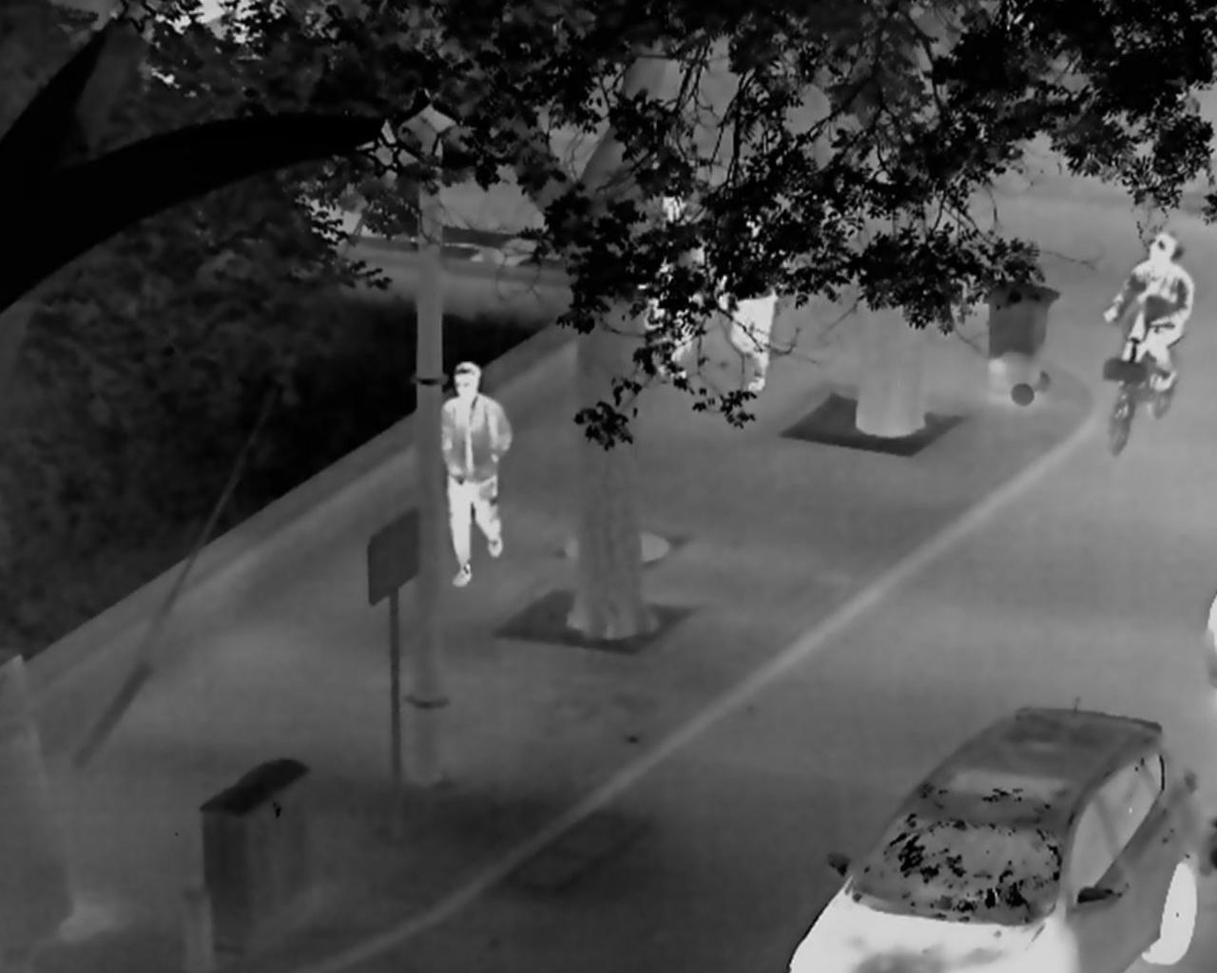person: (438, 362, 513, 586), (1104, 227, 1196, 392), (647, 186, 707, 379), (719, 208, 782, 388)
